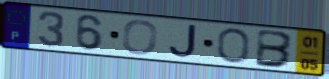3: (36, 10, 67, 50)
6: (74, 14, 106, 52)
B: (253, 28, 297, 70)
J: (167, 24, 198, 60)
O: (120, 18, 160, 56), (215, 27, 252, 65)
